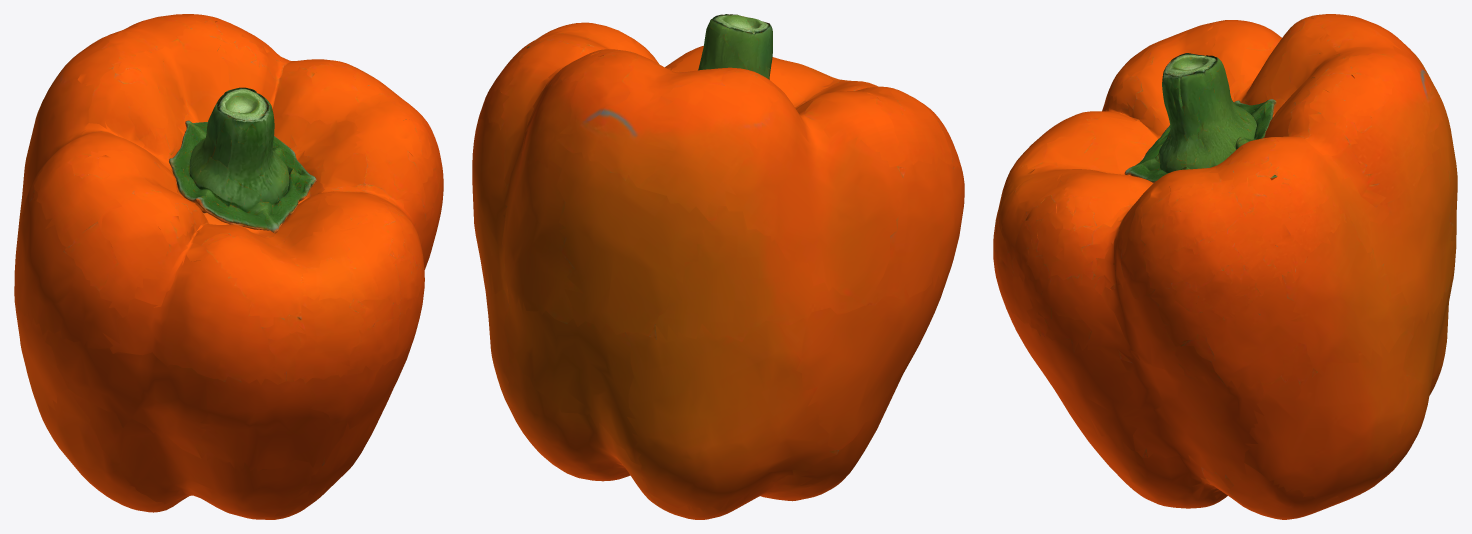
The model's file is kitchen-bell-pepper-03.glb.
3 renders of one model, left to right at view 1: azimuth 30°, elevation 25°; view 2: azimuth 150°, elevation 25°; view 3: azimuth 270°, elevation 25°, orthographic. The views are drawn at different scales.
Parts seen in each view (by area): view 1: mesh_node; view 2: mesh_node; view 3: mesh_node.
Boxes of the visible parts, x1=… form: mesh_node: x1=14, y1=14, x2=443, y2=519; mesh_node: x1=472, y1=14, x2=964, y2=519; mesh_node: x1=993, y1=14, x2=1457, y2=519.
Bounding box in the file's own units: 1.87 × 1.9 × 1.8.
Materials: 1 (1 with a texture image).
